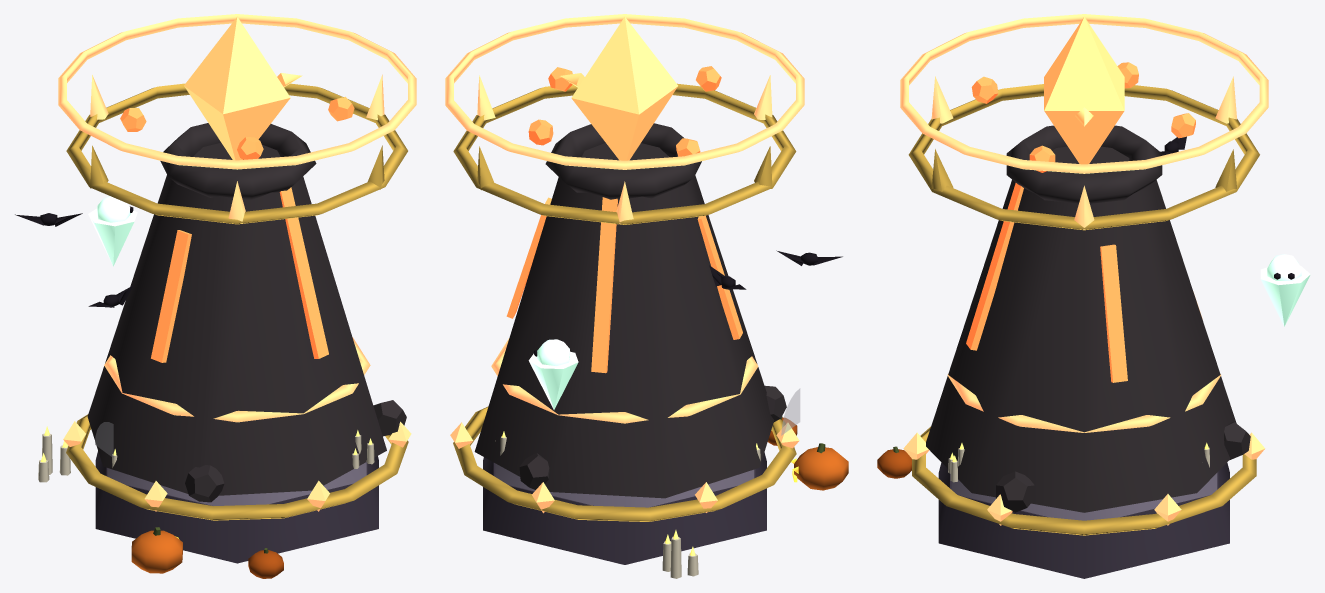
Rendered from tower_element_elementVolcano_ultimate.glb.
The picture shows the model from 3 angles, left to right: view 1: azimuth 30°, elevation 25°; view 2: azimuth 150°, elevation 25°; view 3: azimuth 270°, elevation 25°; orthographic projection. The views are drawn at different scales.
Parts seen in each view (by area): view 1: volcano, base, ult_halo, crystal, ult_crown_band, volcano_rim, ult_ring, lava_rivulet_0_flow, lava_rivulet_3_flow, base_top, volcano_band, deco_hw_jack_body (+7 smaller); view 2: volcano, base, crystal, ult_halo, ult_crown_band, ult_ring, volcano_rim, lava_rivulet_2_flow, base_top, volcano_band, deco_hw_jack_body, deco_hw_ghost_sheet (+8 smaller); view 3: volcano, base, ult_halo, ult_crown_band, crystal, volcano_rim, ult_ring, lava_rivulet_1_flow, base_top, volcano_band, lava_rivulet_0_flow, deco_hw_ghost_sheet (+4 smaller).
Boxes of the visible parts, x1,y1,x2,y2 form: volcano: (87,143,386,495); base: (95,451,378,563); ult_halo: (58,14,416,169); crystal: (184,16,290,160); ult_crown_band: (66,83,407,224); volcano_rim: (160,123,316,200); ult_ring: (66,414,408,520); lava_rivulet_0_flow: (279,187,328,358); lava_rivulet_3_flow: (151,230,191,362); base_top: (108,462,366,505); volcano_band: (104,337,370,422); deco_hw_jack_body: (131,530,182,573); volcano: (474,143,774,498); base: (483,452,766,564); crystal: (571,17,677,160); ult_halo: (445,14,804,169); ult_crown_band: (453,83,796,224); ult_ring: (453,406,796,521); volcano_rim: (545,123,701,199); lava_rivulet_2_flow: (591,197,617,373); base_top: (495,463,754,507); volcano_band: (491,338,758,423); deco_hw_jack_body: (794,447,848,490); deco_hw_ghost_sheet: (528,351,578,409); volcano: (926,146,1236,512); base: (938,462,1229,578); ult_halo: (900,14,1268,173); ult_crown_band: (908,84,1259,230); crystal: (1044,17,1124,164); volcano_rim: (1006,125,1162,203); ult_ring: (912,426,1256,535); lava_rivulet_1_flow: (1100,244,1127,382); base_top: (951,473,1217,520); volcano_band: (947,374,1221,432); lava_rivulet_0_flow: (966,183,1023,350); deco_hw_ghost_sheet: (1260,265,1310,326).
Bounding box in the file's own units: 0.4702 × 0.629 × 0.5031.
